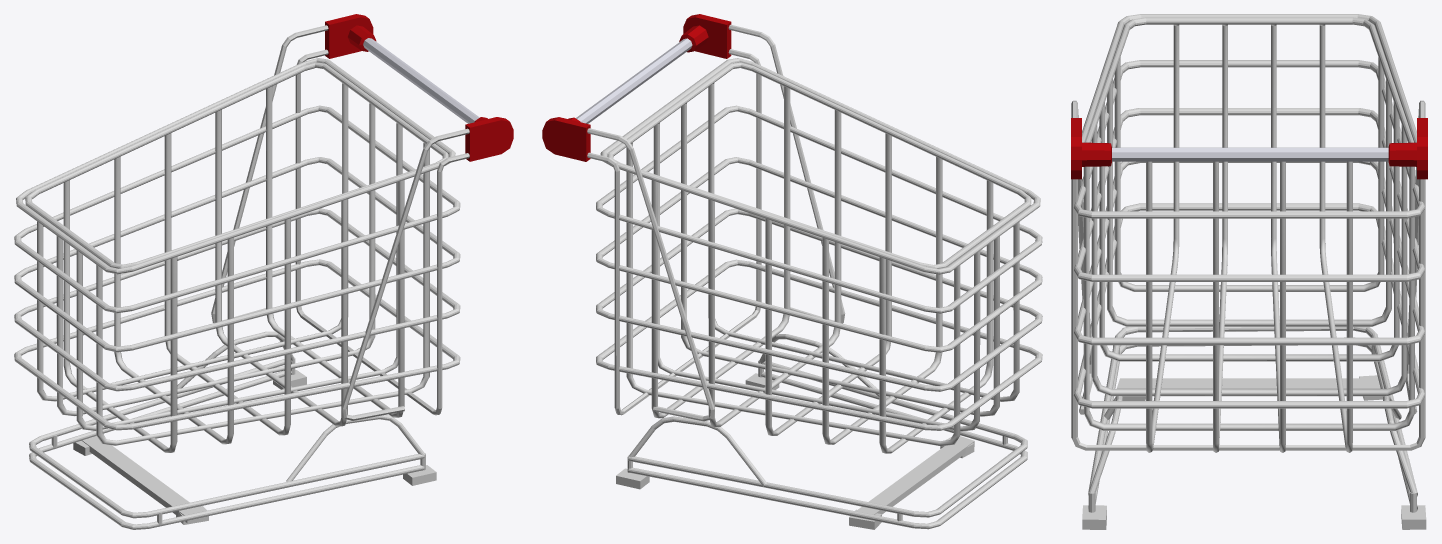
Rendered from trolleythree.glb.
3 views of the same model, side by side, from view 1: azimuth 30°, elevation 25°; view 2: azimuth 150°, elevation 25°; view 3: azimuth 270°, elevation 25° (orthographic). The views are drawn at different scales.
Parts seen in each view (by area): view 1: trolley; view 2: trolley; view 3: trolley.
Part boxes in pixels (box(x1,y1,x2,y2)): trolley: box(14, 14, 513, 529); trolley: box(542, 14, 1042, 529); trolley: box(1071, 14, 1427, 529).
Size of the model in its own units: 3.24 by 2.83 by 2.14.
